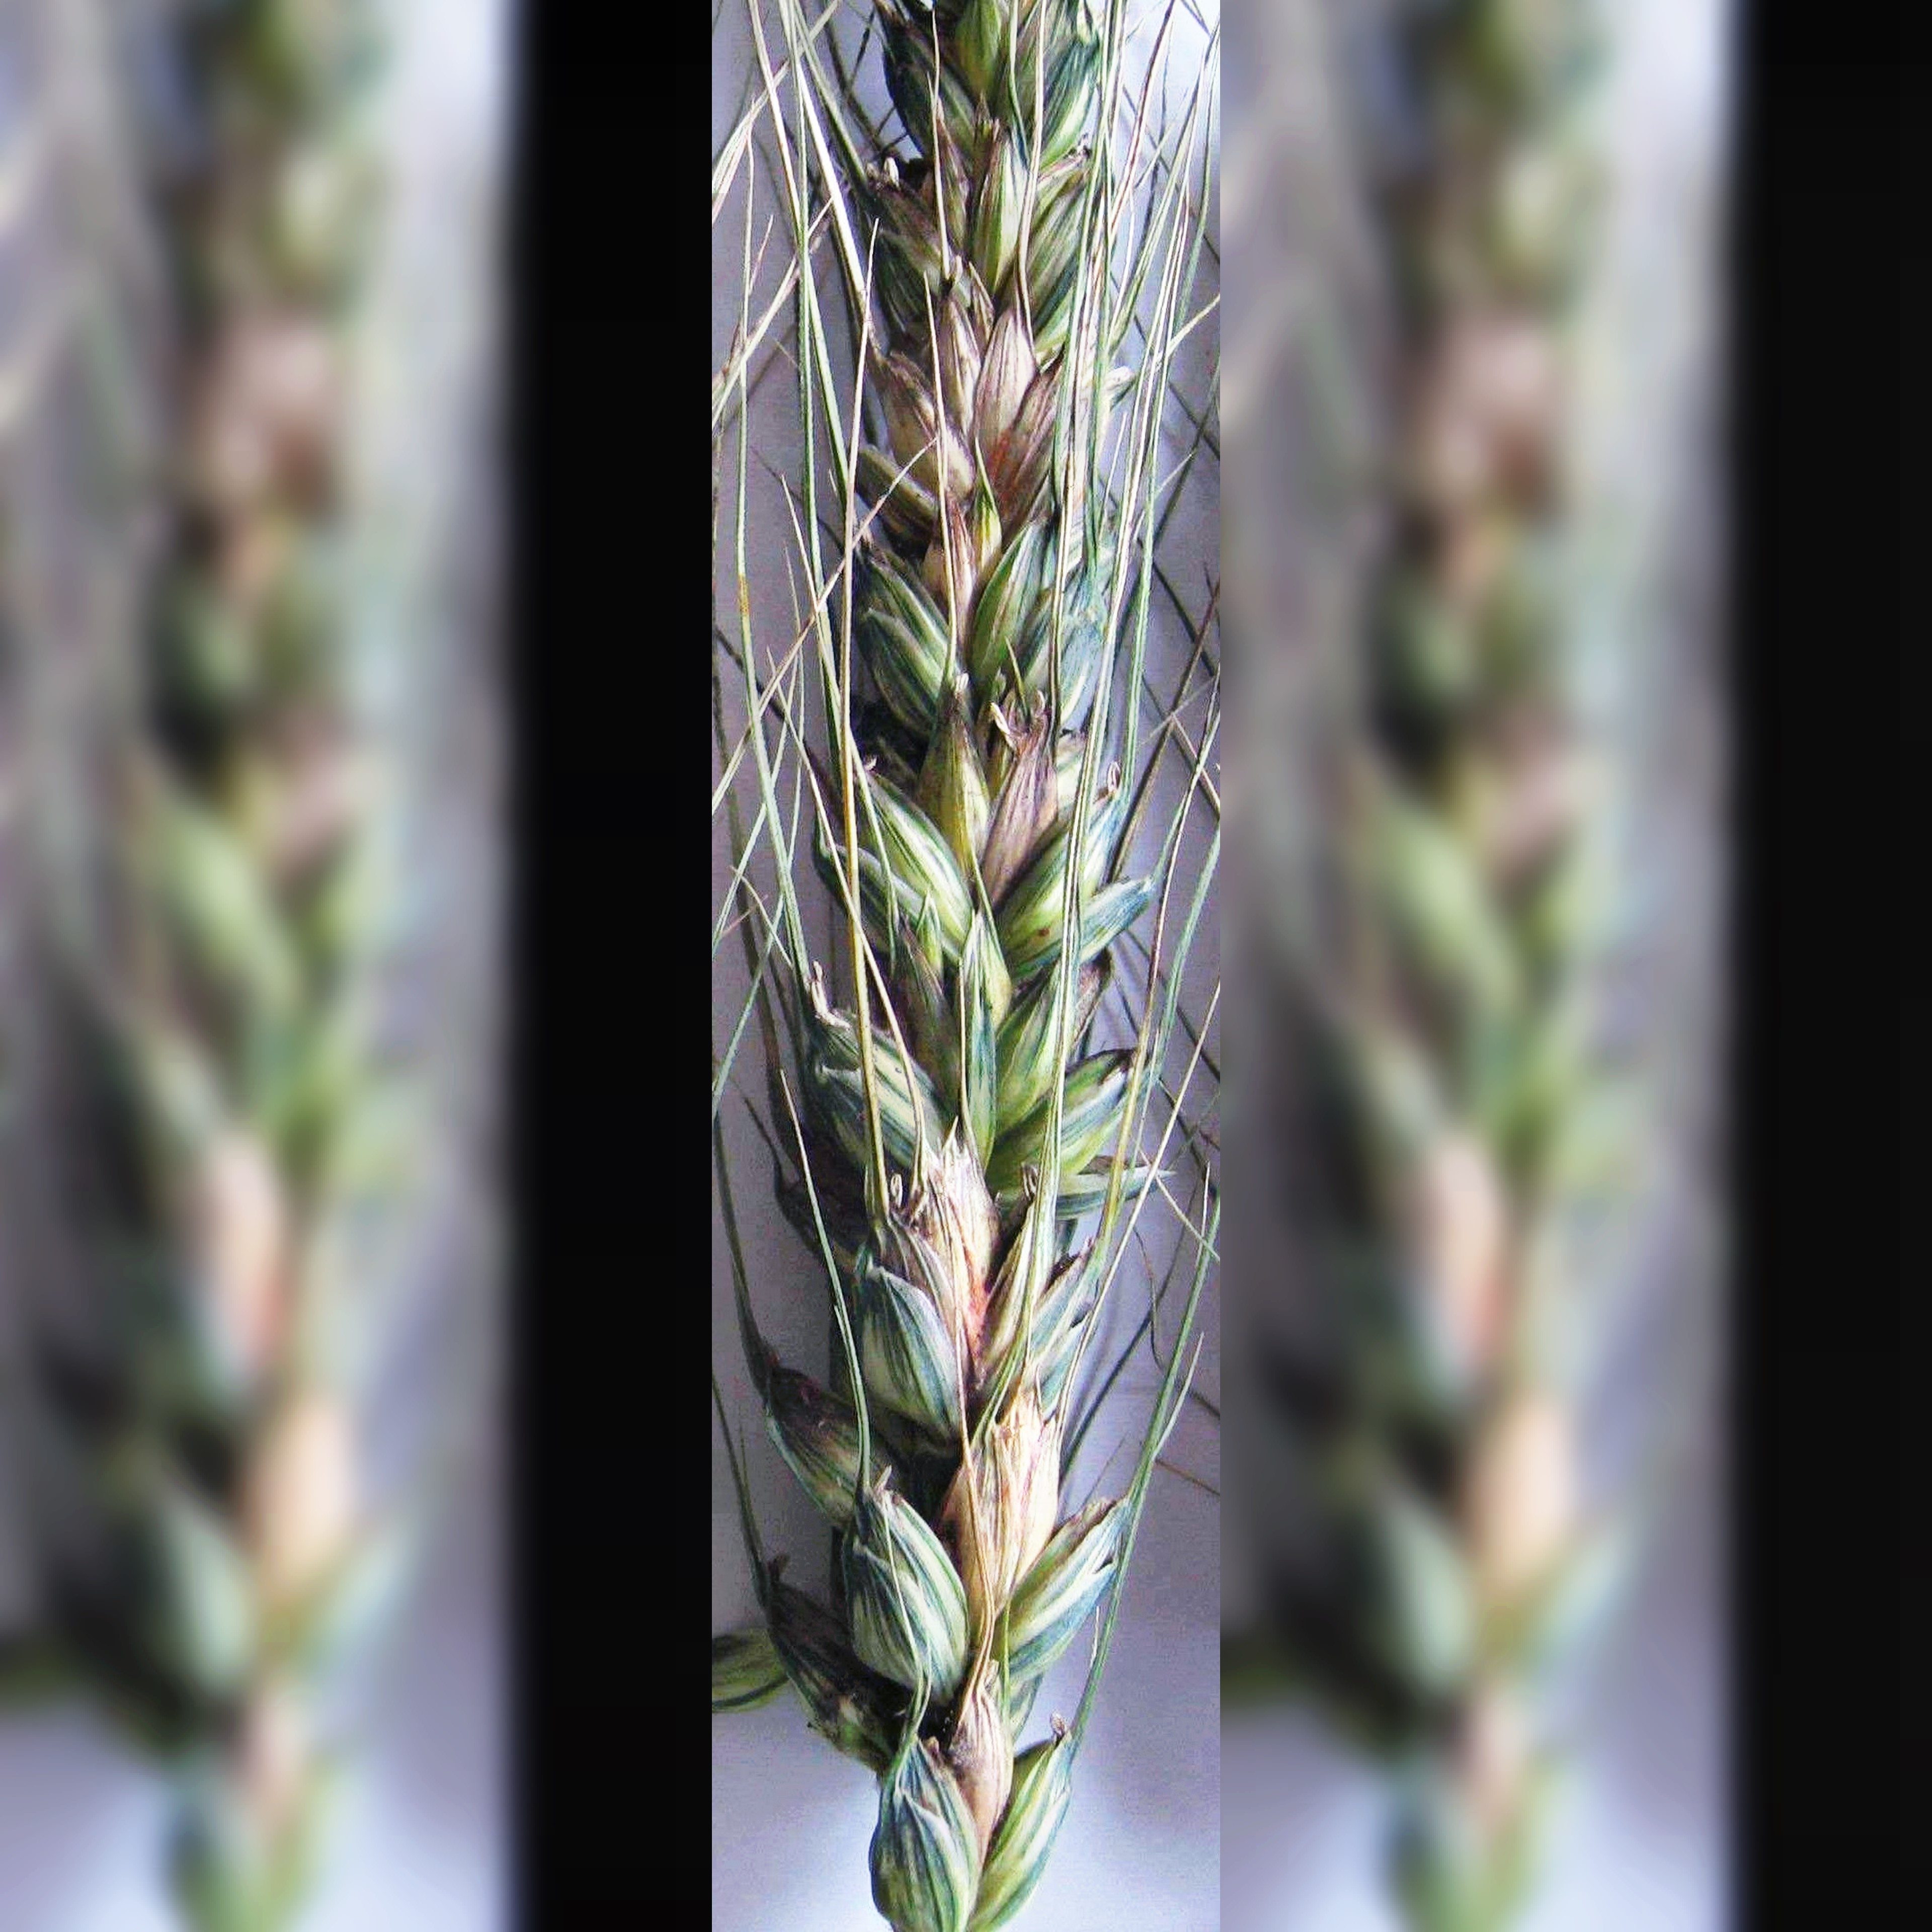Wheat scab: (731, 25, 1168, 1916)
